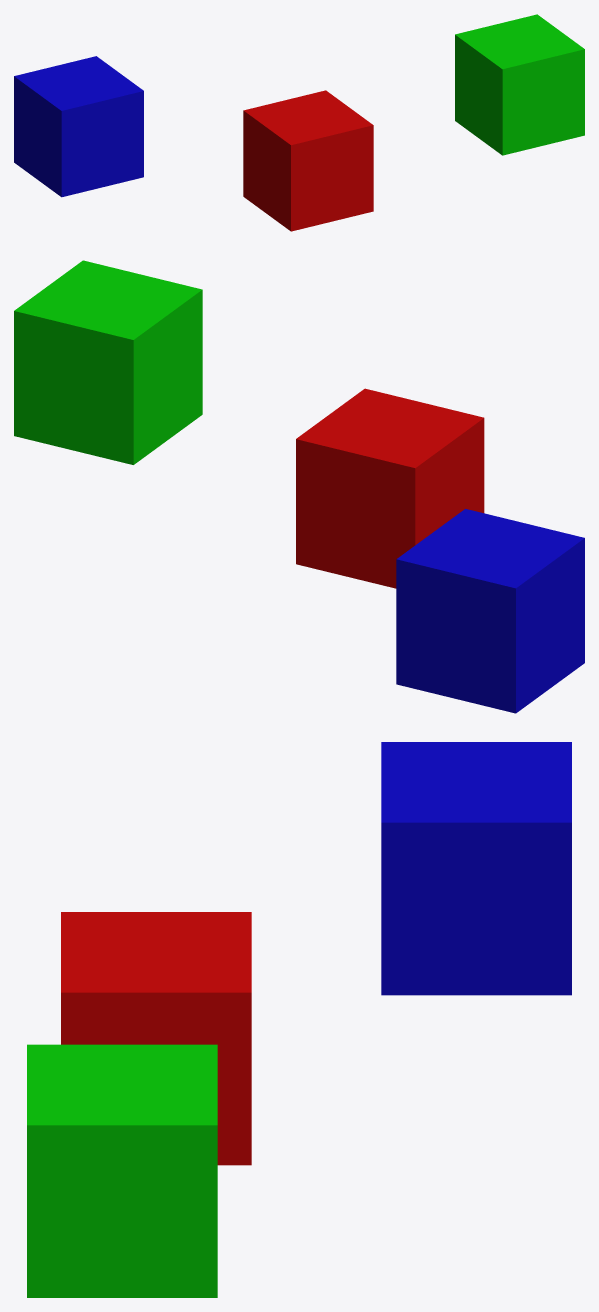
The model's file is MaterialTest.obj.
The picture shows the model from 3 angles, top to bottom: view 1: azimuth 30°, elevation 25°; view 2: azimuth 150°, elevation 25°; view 3: azimuth 270°, elevation 25°; orthographic projection. The views are drawn at different scales.
Visible parts, largest first — view 1: Cube.001, Cube, Cube.002; view 2: Cube, Cube.002, Cube.001; view 3: Cube, Cube.002, Cube.001.
Boxes of the visible parts, left/top/right/bottom form: Cube.001: left=243, top=90, right=373, bottom=231; Cube: left=14, top=56, right=143, bottom=197; Cube.002: left=455, top=14, right=584, bottom=155; Cube: left=396, top=509, right=584, bottom=713; Cube.002: left=14, top=260, right=202, bottom=464; Cube.001: left=296, top=388, right=484, bottom=588; Cube: left=381, top=742, right=571, bottom=995; Cube.002: left=27, top=1044, right=217, bottom=1297; Cube.001: left=61, top=912, right=251, bottom=1165.
Size of what is drawn, in the model's own units: 10.54 by 2.76 by 5.72.
